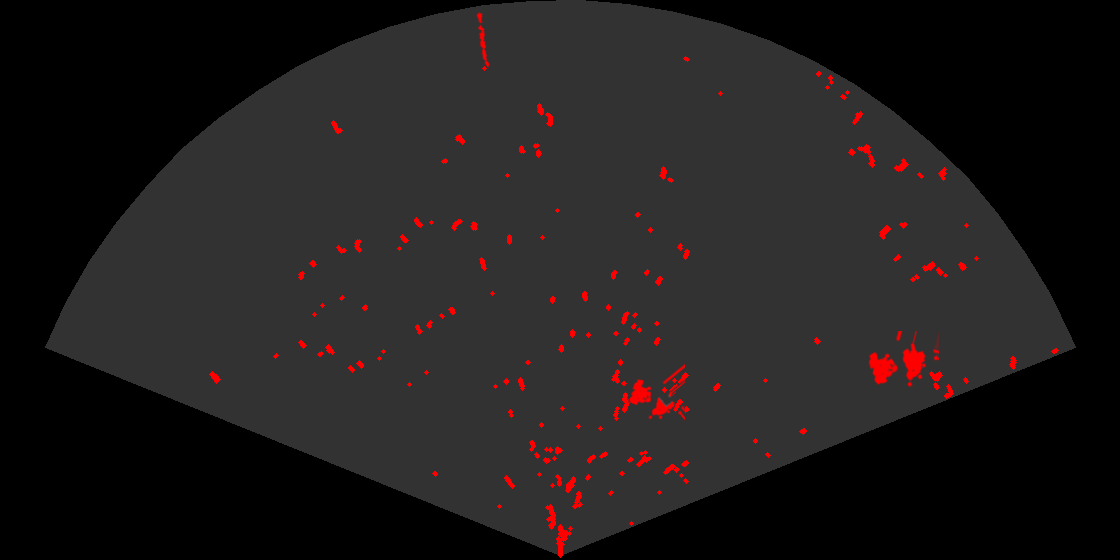cage: (867, 331, 939, 389), (627, 363, 685, 422)
chain: (475, 12, 491, 69)
